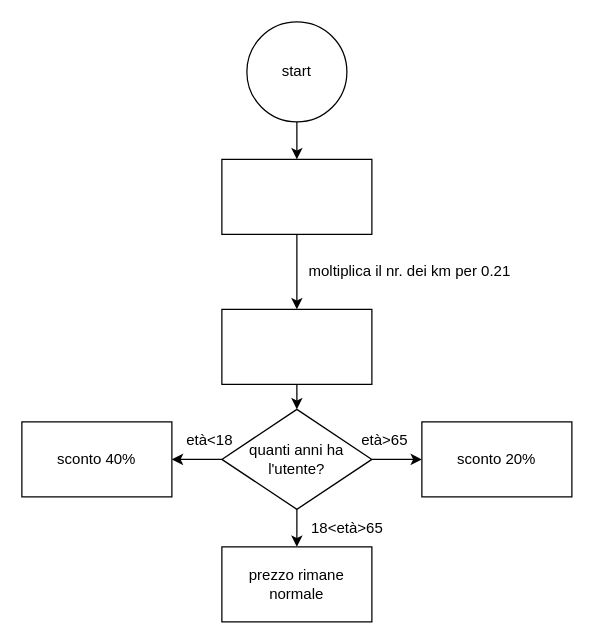
This 594x644 diagram has some shape labels left out. The centre of each missing label's shape, as x and y in pixels:
"ottieni il prezzo normale" goes at pixel 296 346.
"quanti chilometri devi fare?" goes at pixel 296 196.
